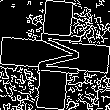M_W: (28, 30, 82, 80)
